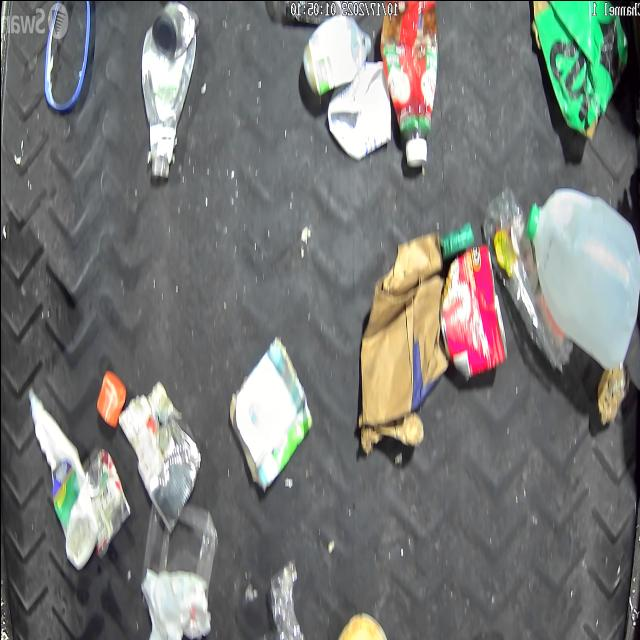can: (438, 242, 507, 382), (138, 402, 200, 524), (82, 446, 128, 556), (334, 610, 390, 640)
milk_jug: (524, 185, 640, 373)
non_white_jug: (526, 0, 626, 142)
